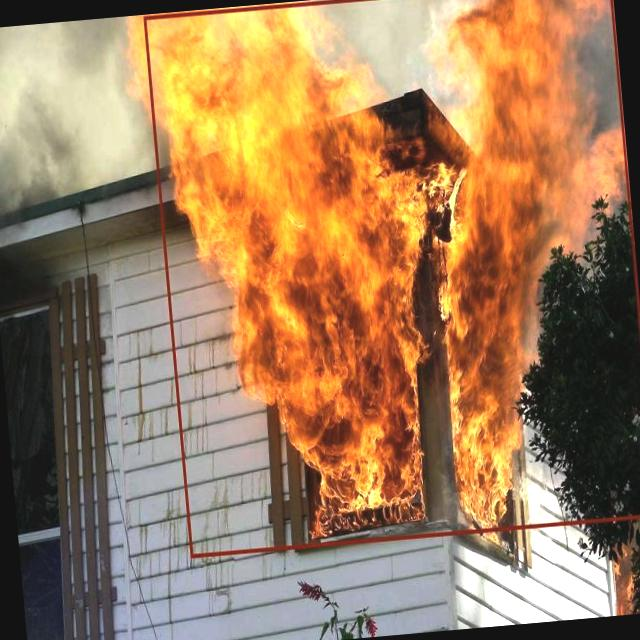fire: (143, 0, 640, 556)
